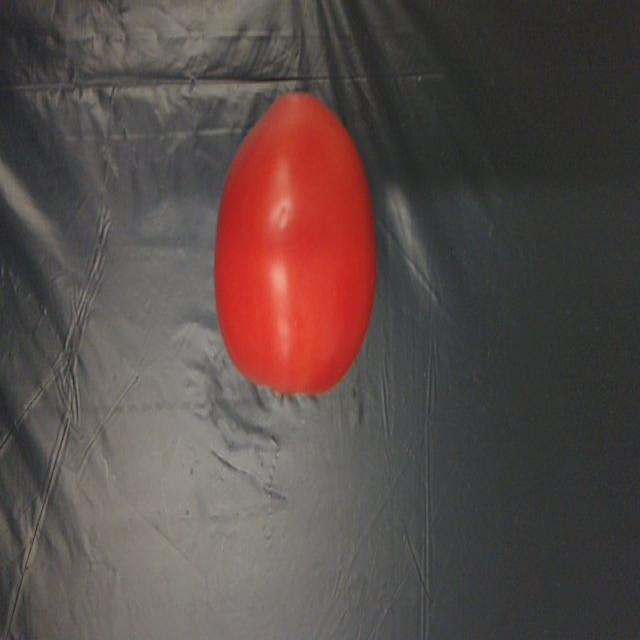kirmizi: (217, 76, 377, 398)
